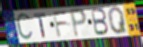B: (90, 7, 110, 37)
C: (15, 11, 35, 43)
F: (52, 10, 70, 39)
P: (69, 7, 88, 39)
Q: (107, 6, 130, 36)
T: (33, 12, 47, 39)
